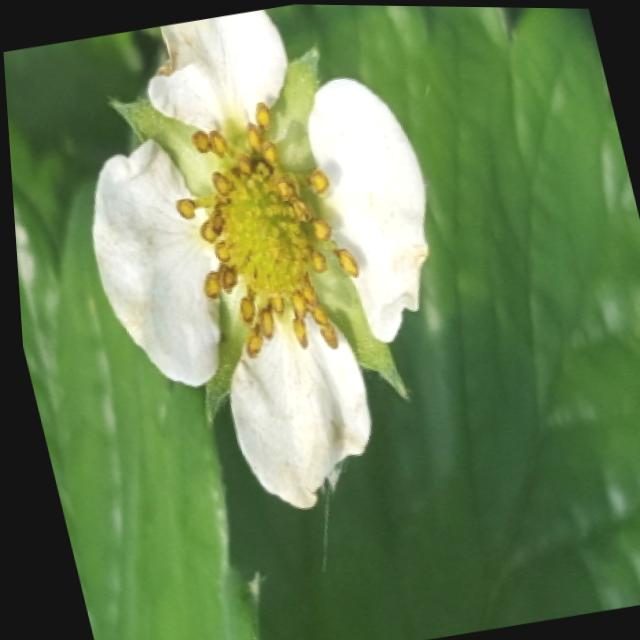Blossom Blight: (163, 98, 362, 362)
